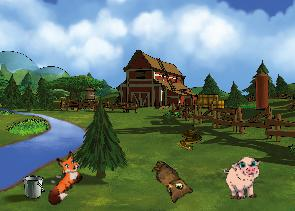fox: (31, 147, 92, 208)
owl: (142, 158, 196, 208)
pig: (222, 156, 264, 201)
